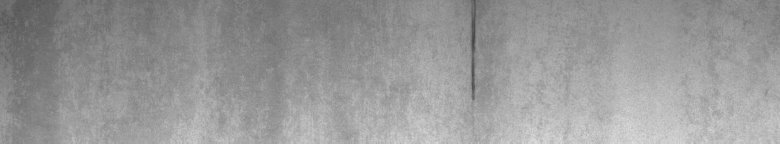hd: (464, 4, 484, 101)
